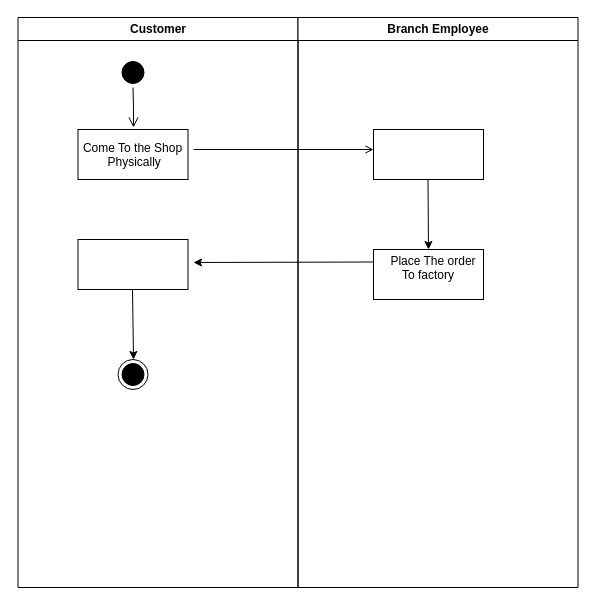
Some shapes in this 595 by 605 pixel diagram are drawn without their labels. Each missing label, with the centre of its shape:
Collect the Order on the pickup date: the point at 132,264
Get The Order Details: the point at 428,154
